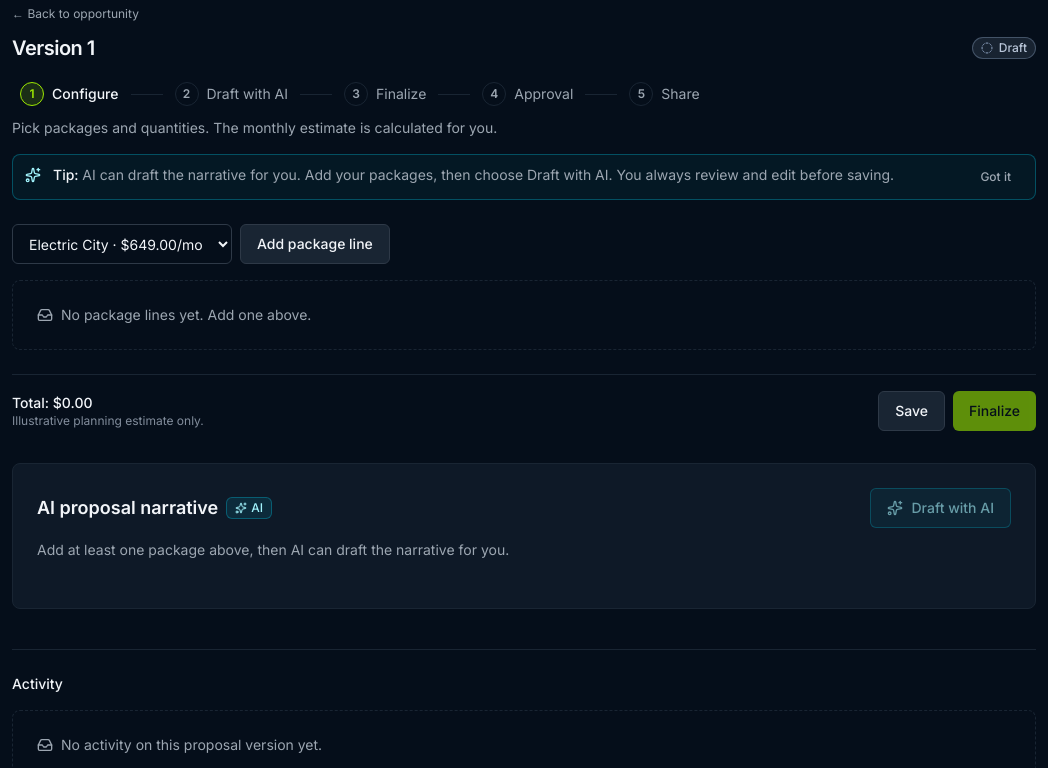
Test: ProposalBuilder › lets a manager add a package line and shows the live-calculated total
Click the button "Add package line" at (315, 244), box [240,224,390,264]
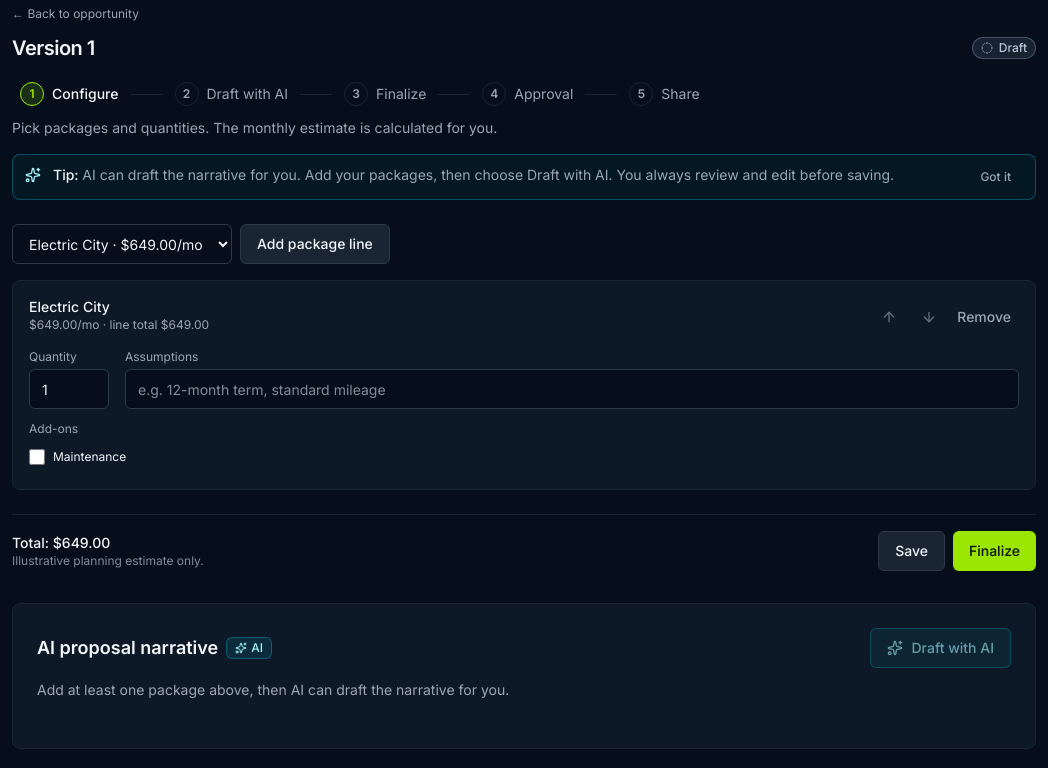
Expected: the text "Illustrative planning estimate only." is shown, [12,553,204,569]
Result: the text "Total: $649.00" is shown at [12,534,110,551]
